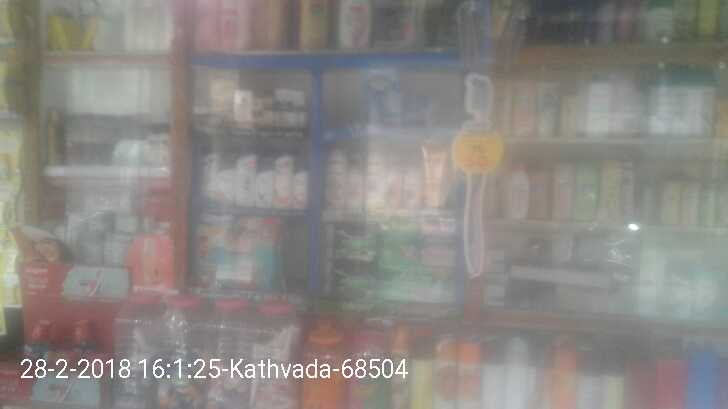venus: (363, 71, 398, 125), (398, 95, 432, 125)
